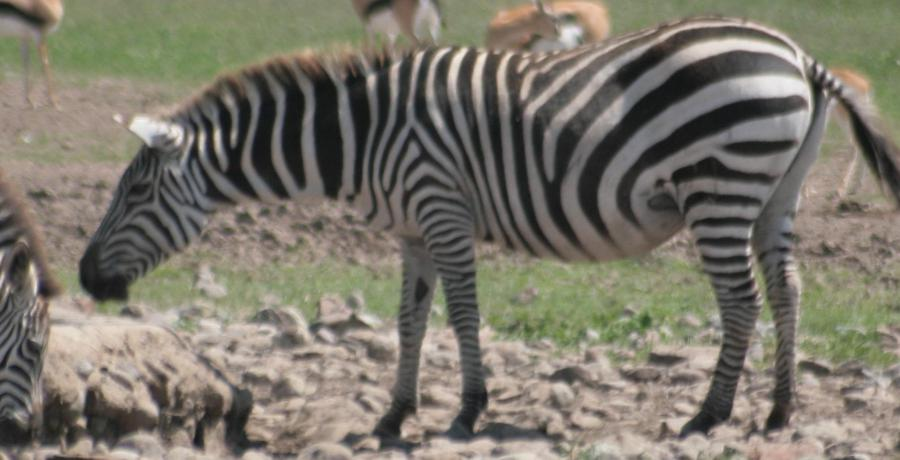zebra_plains: (326, 7, 800, 288)
